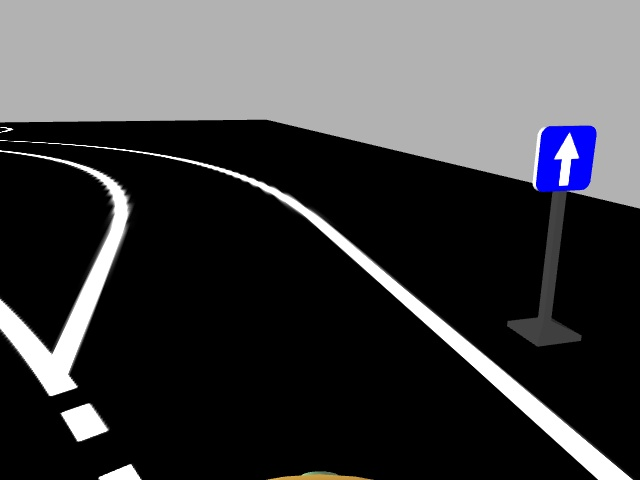OneWay: (534, 123, 593, 191)
